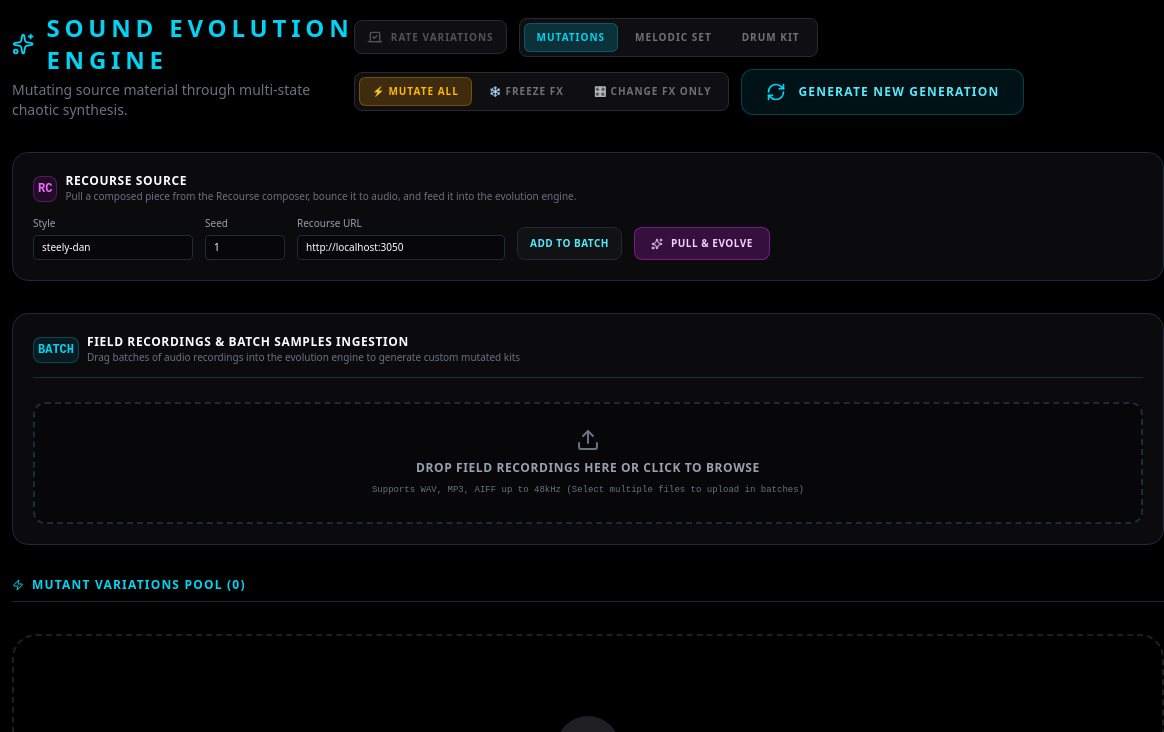
Test case: EvolutionPanel Recourse source › adds a pulled piece to the batch
Click the button "Add to Batch" at coordinates (570, 244), box [517,227,622,260]
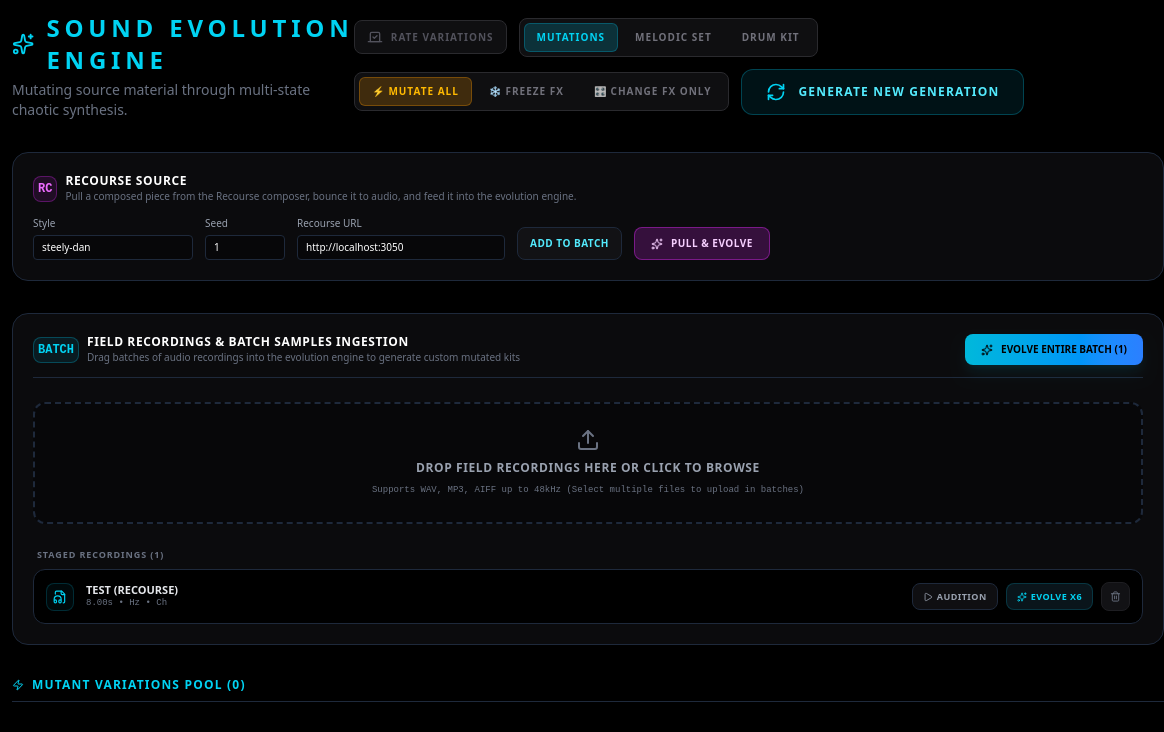
Check: the text "TEST (RECOURSE)" is shown, box [86,583,178,597]
